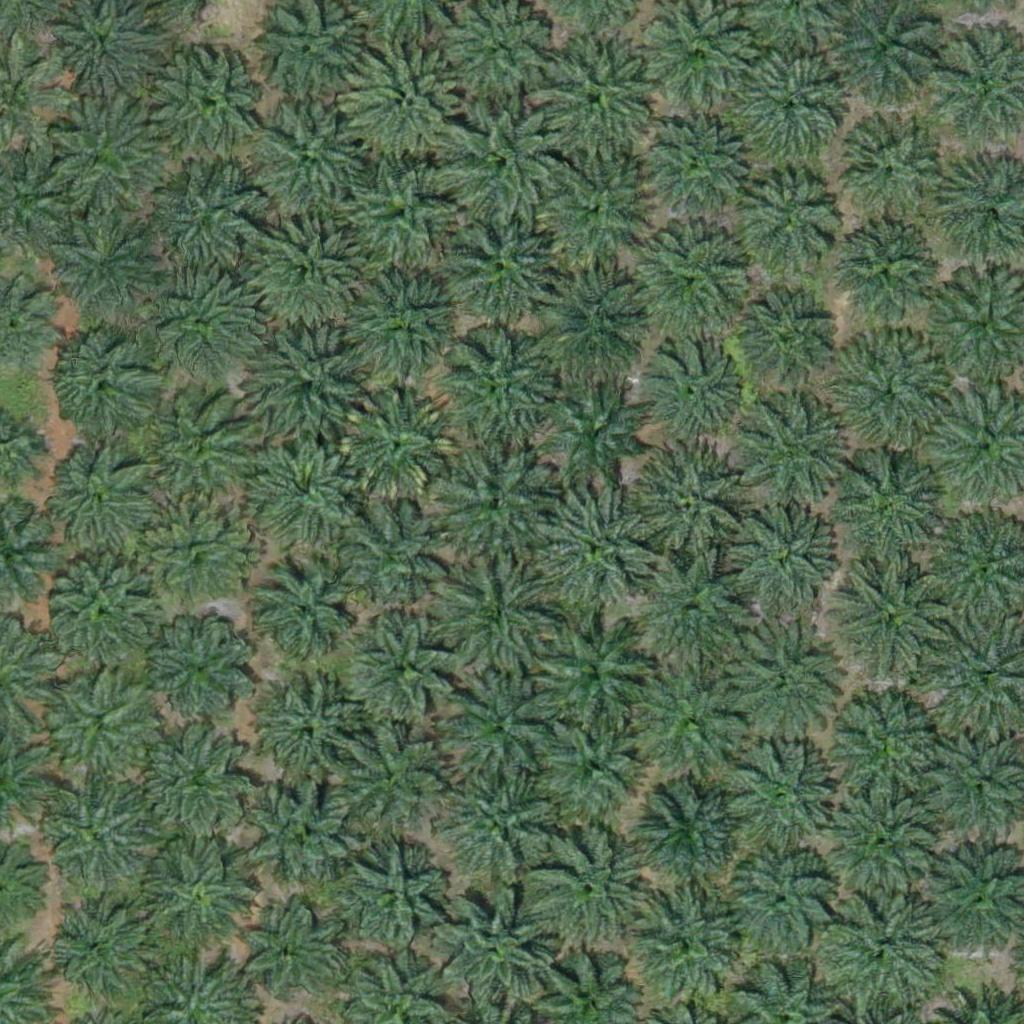Kelapa_Sawit: (150, 45, 275, 171), (356, 45, 481, 171), (829, 327, 954, 453), (828, 449, 953, 575), (828, 561, 953, 687), (635, 103, 760, 229), (623, 440, 748, 566), (631, 551, 756, 677), (527, 486, 652, 612), (531, 256, 656, 382), (527, 149, 652, 275), (534, 41, 659, 167), (439, 99, 564, 225), (435, 202, 560, 328), (435, 321, 560, 447), (433, 441, 558, 567), (423, 556, 548, 682), (44, 91, 169, 217), (439, 664, 564, 790), (437, 758, 562, 884), (432, 893, 557, 1019), (529, 603, 654, 729), (533, 702, 658, 828), (529, 823, 654, 949), (621, 658, 746, 784), (715, 740, 840, 866), (718, 617, 843, 743), (825, 780, 950, 906), (824, 888, 949, 1014), (729, 43, 854, 168), (825, 686, 950, 811), (347, 157, 460, 271), (347, 265, 460, 379), (633, 890, 746, 1004), (730, 171, 843, 284), (142, 391, 255, 504), (136, 497, 249, 610), (48, 558, 161, 671), (38, 442, 151, 555), (48, 326, 161, 439), (53, 208, 166, 321), (146, 608, 259, 721), (254, 678, 367, 791), (141, 723, 254, 836), (141, 836, 254, 949), (239, 774, 352, 887), (636, 778, 749, 891), (250, 217, 362, 331), (254, 106, 366, 220), (333, 725, 445, 839), (834, 113, 946, 226), (722, 501, 834, 614), (738, 395, 850, 508), (635, 230, 747, 343), (341, 387, 453, 500), (340, 503, 452, 616), (247, 556, 359, 669), (247, 432, 359, 545), (254, 330, 366, 443), (146, 164, 258, 277), (145, 265, 257, 378), (348, 612, 460, 725), (46, 674, 158, 787), (42, 781, 154, 894), (335, 838, 447, 951), (726, 848, 838, 961), (834, 223, 934, 324), (738, 289, 838, 390), (643, 339, 743, 440), (50, 902, 150, 1003), (238, 902, 338, 1003), (545, 380, 645, 480)
